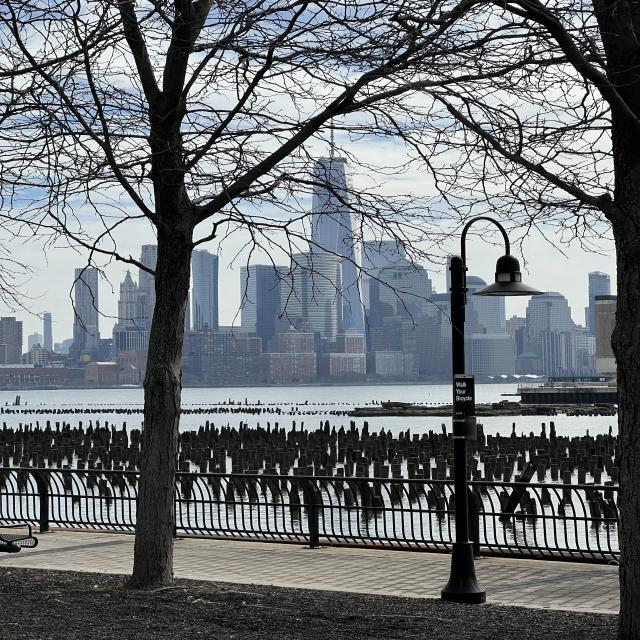WTC: (310, 115, 364, 328)
